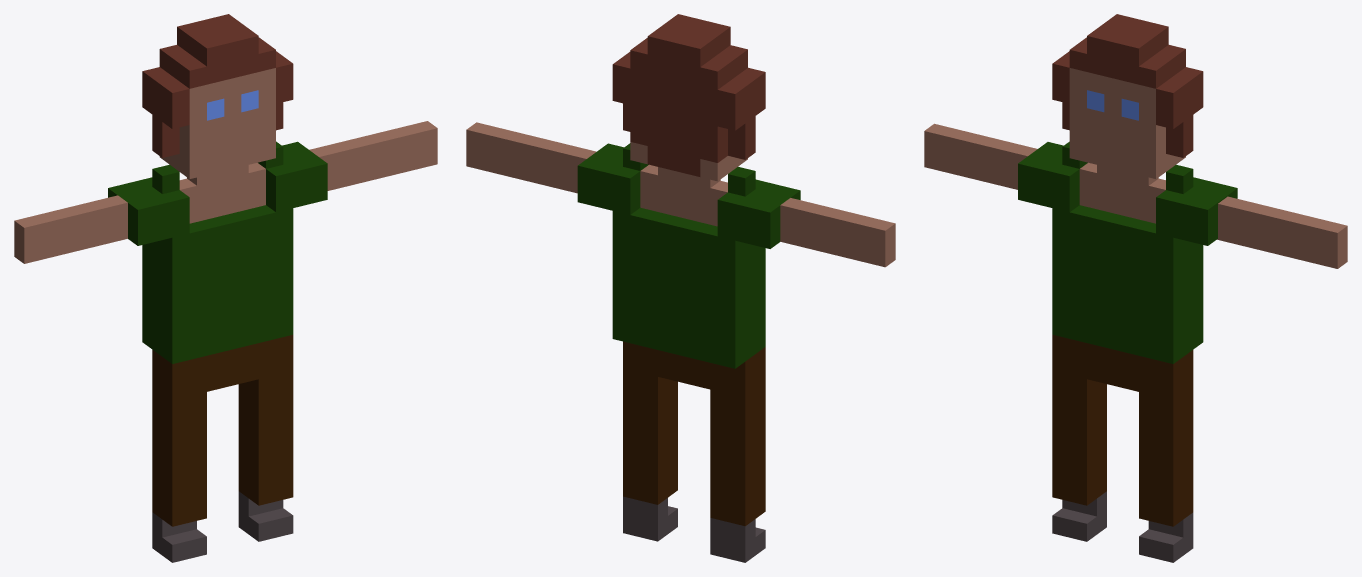
Rendered from personaje_3.glb.
3 renders of one model, left to right at view 1: azimuth 30°, elevation 25°; view 2: azimuth 150°, elevation 25°; view 3: azimuth 330°, elevation 25°, orthographic.
Visible parts, largest first — view 1: personaje_3; view 2: personaje_3; view 3: personaje_3.
Part boxes in pixels (left/top/right/bottom): personaje_3: left=14, top=14, right=437, bottom=562; personaje_3: left=466, top=14, right=895, bottom=562; personaje_3: left=924, top=14, right=1347, bottom=562.
Size of the model in its own units: 47.88 by 56 by 6.
